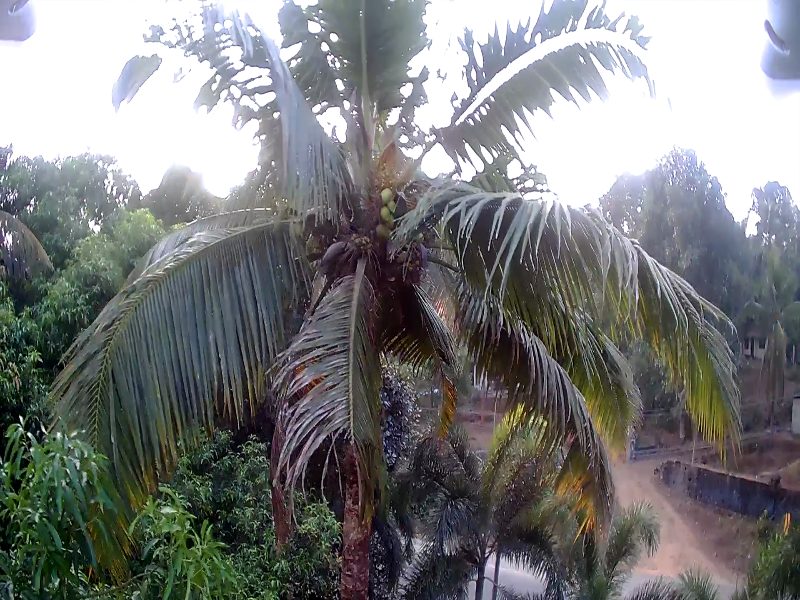coconut: (372, 223, 388, 240), (380, 184, 390, 203), (409, 227, 420, 241), (386, 201, 395, 218), (379, 205, 388, 220)
